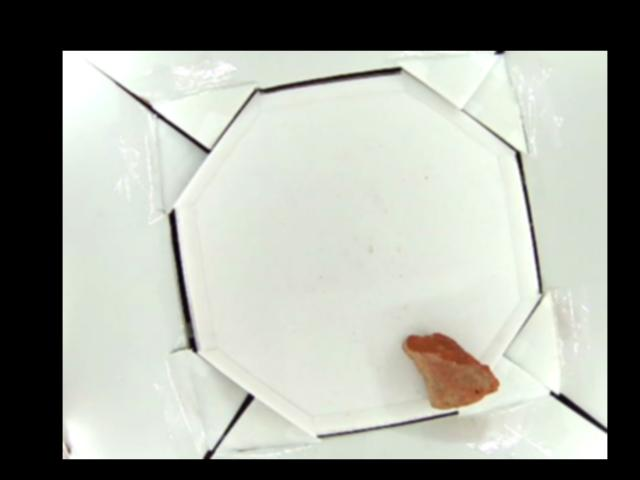Brisk: (404, 332, 501, 409)
